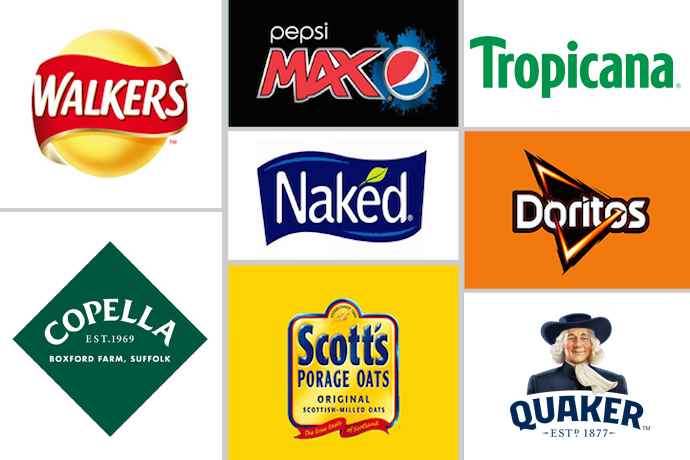pepsi: (381, 44, 429, 97), (386, 44, 429, 97)
